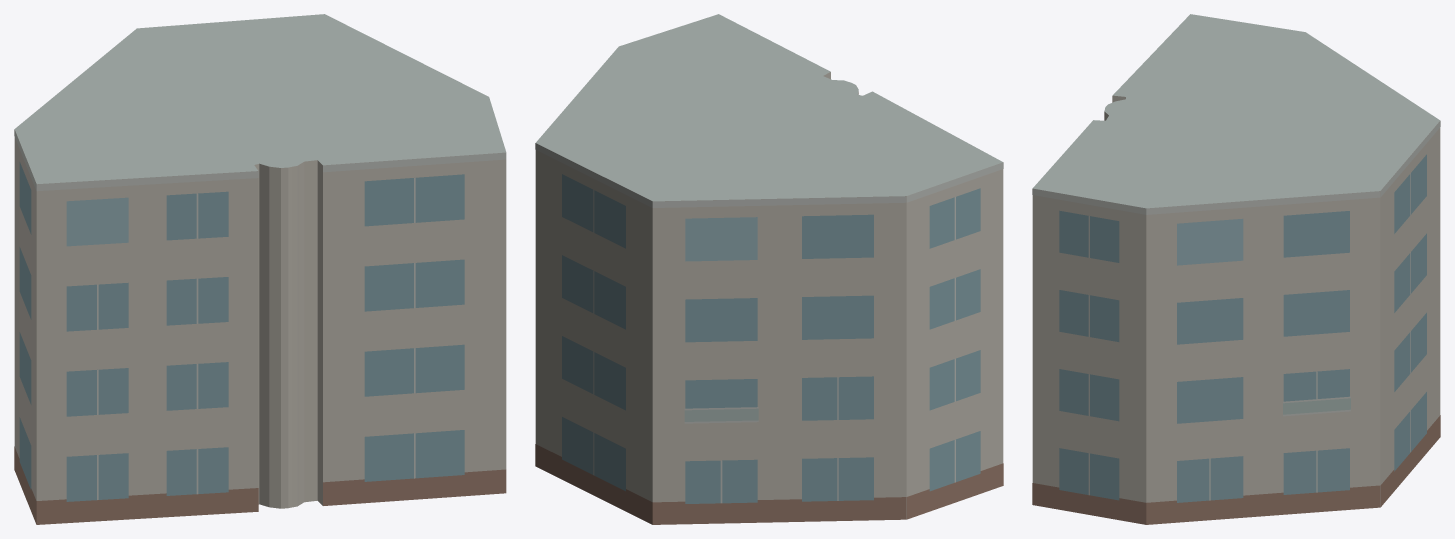
The model's file is survey-upis-33026007.glb.
The picture shows the model from 3 angles, left to right: view 1: azimuth 30°, elevation 25°; view 2: azimuth 150°, elevation 25°; view 3: azimuth 270°, elevation 25°; orthographic projection. The views are drawn at different scales.
Parts seen in each view (by area): view 1: survey-upis-33026007.tmp; view 2: survey-upis-33026007.tmp; view 3: survey-upis-33026007.tmp.
Boxes of the visible parts, left/top/right/bottom form: survey-upis-33026007.tmp: left=14, top=14, right=506, bottom=524; survey-upis-33026007.tmp: left=535, top=14, right=1003, bottom=524; survey-upis-33026007.tmp: left=1032, top=14, right=1440, bottom=524.
Bounding box in the file's own units: 15.55 × 11.8 × 13.8.
